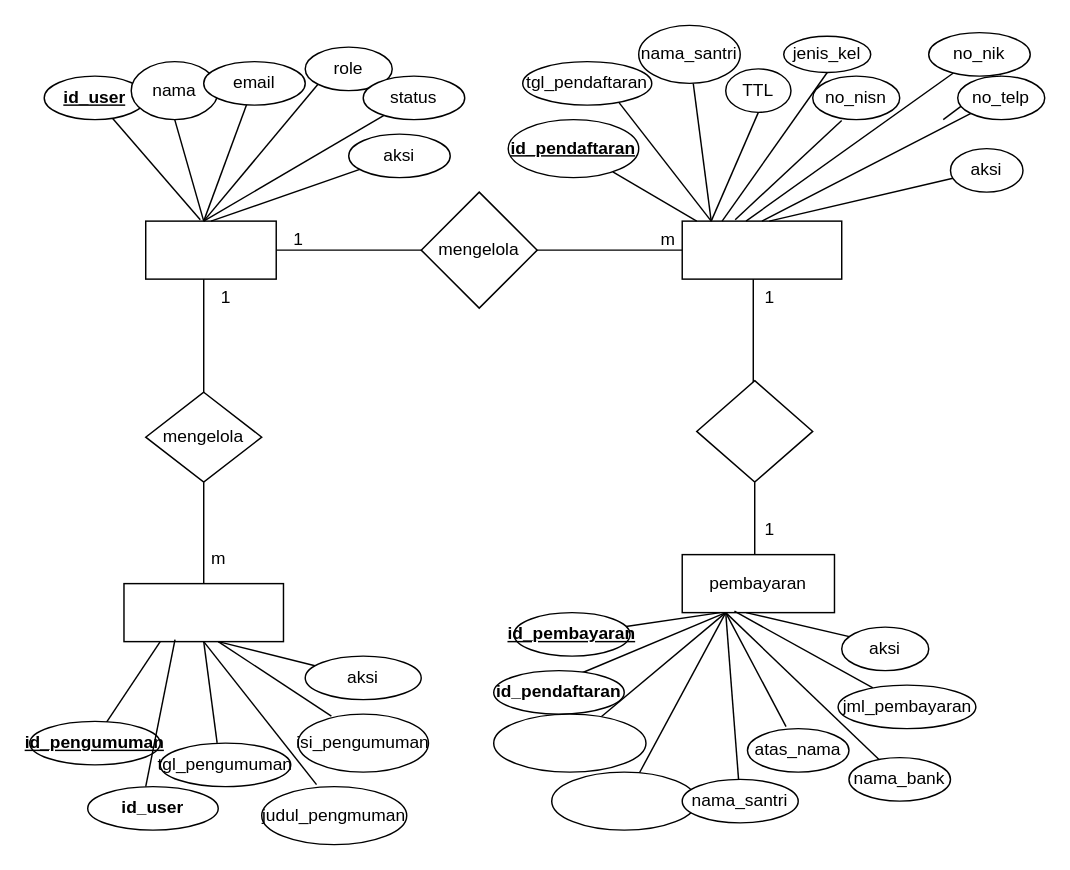
Image size: 1070x870. Some labels were removed from this diagram. The shapes that lost their labels are listed below. From the top down, each one's centre as x and y in pixels, then its label:
point (210, 249): User
point (761, 249): Pendaftaran santri
point (754, 430): memiliki
point (203, 612): pengumuman
point (569, 742): jenis_pembayaran
point (623, 800): tgl_pembayaran
